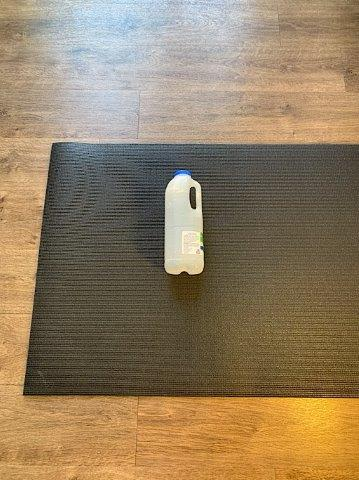botolplastik: (165, 170, 203, 274)
